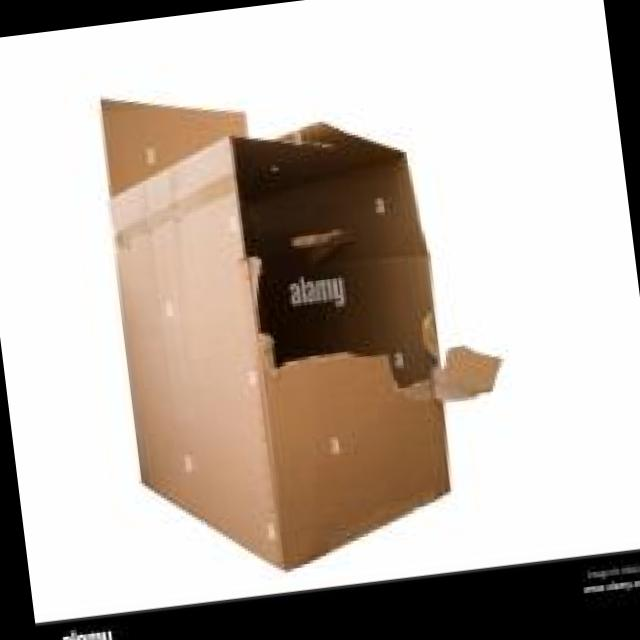box: (100, 97, 458, 574)
opened: (102, 99, 249, 202)
tear: (226, 121, 505, 402)
